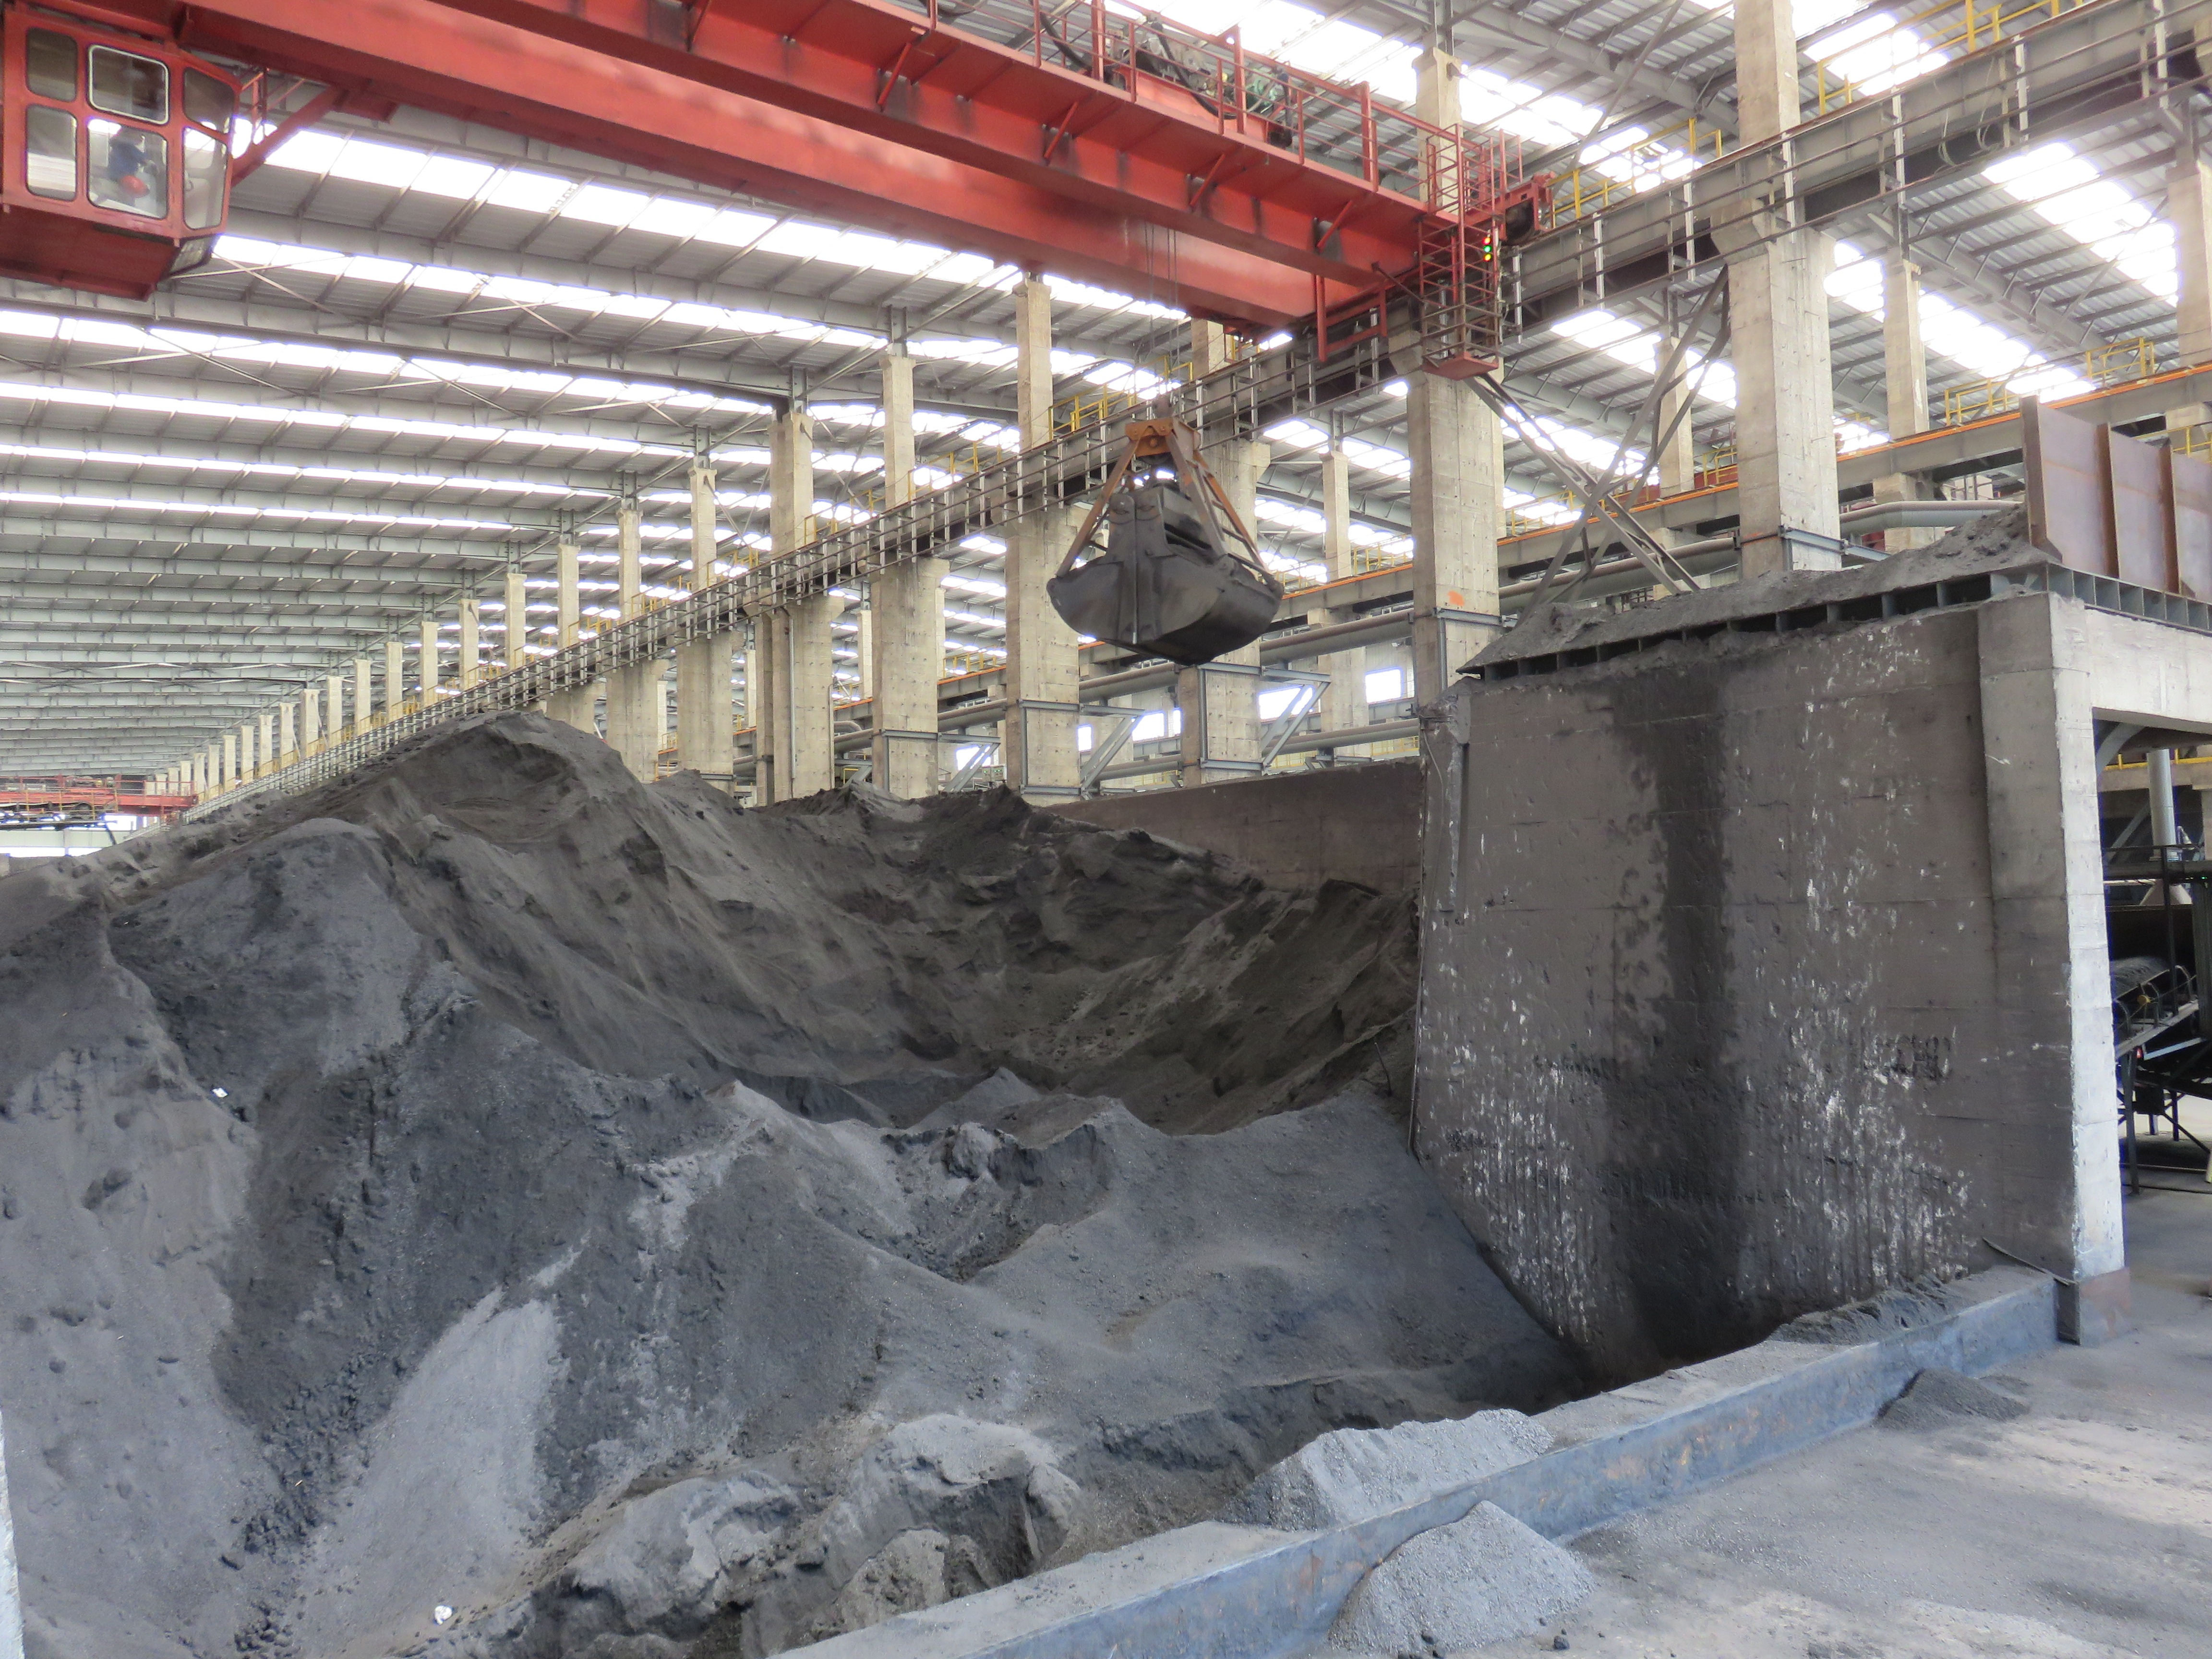grab: (1038, 406, 1296, 667)
